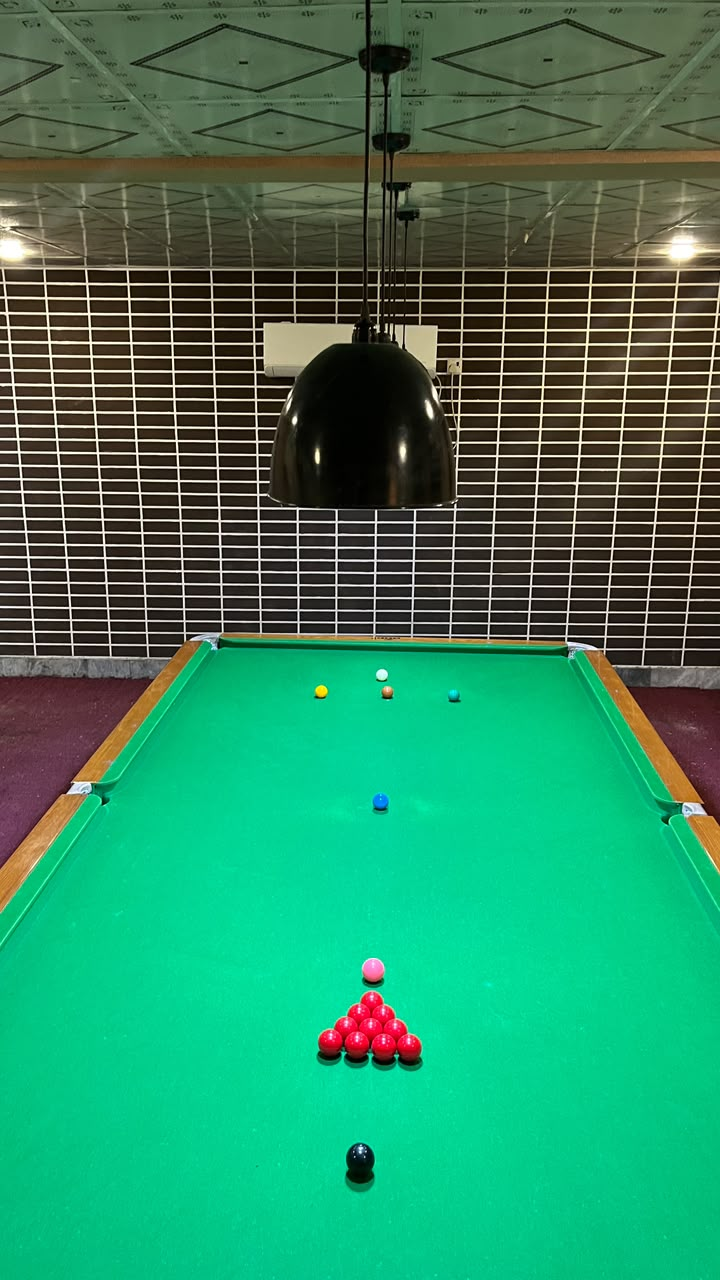Snooker: (311, 990, 432, 1075)
